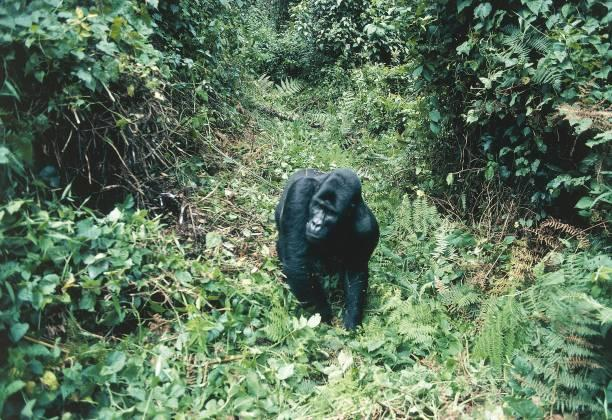goriile_montagne: (257, 139, 390, 342)
